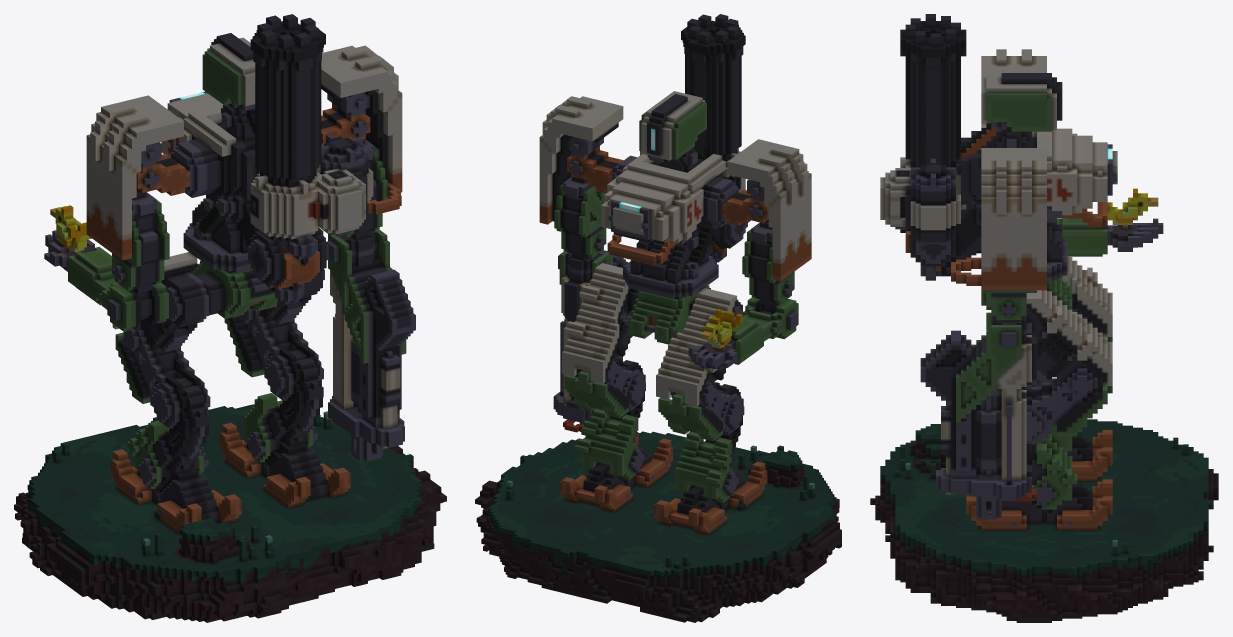
File: Bastion_Final.obj
3 renders of one model, left to right at view 1: azimuth 30°, elevation 25°; view 2: azimuth 150°, elevation 25°; view 3: azimuth 270°, elevation 25°, orthographic. The views are drawn at different scales.
Visible parts, largest first — view 1: Bastion; view 2: Bastion; view 3: Bastion.
Boxes of the visible parts, x1,y1,x2,y2 form: Bastion: (14, 14, 446, 622); Bastion: (475, 14, 841, 622); Bastion: (870, 14, 1218, 622).
Size of the model in its own units: 7.7 by 11.2 by 6.9.
